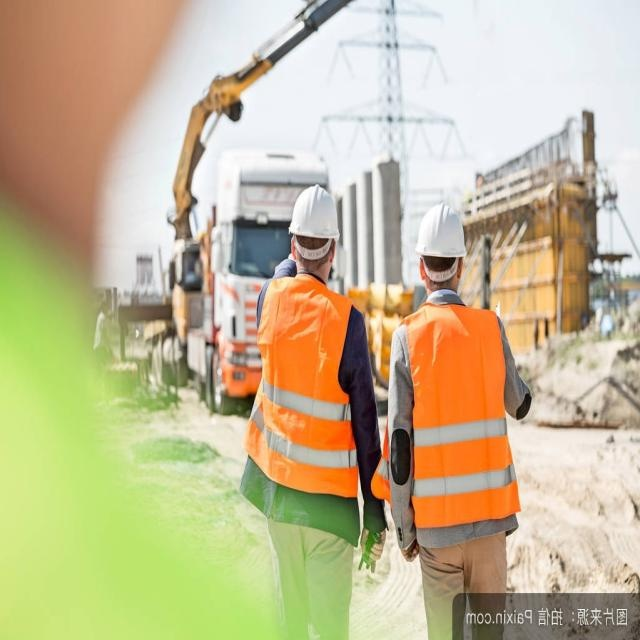Con_Casco: (416, 203, 468, 293), (288, 184, 341, 270)
Con_Chaleco: (243, 278, 369, 497), (394, 308, 512, 536)
